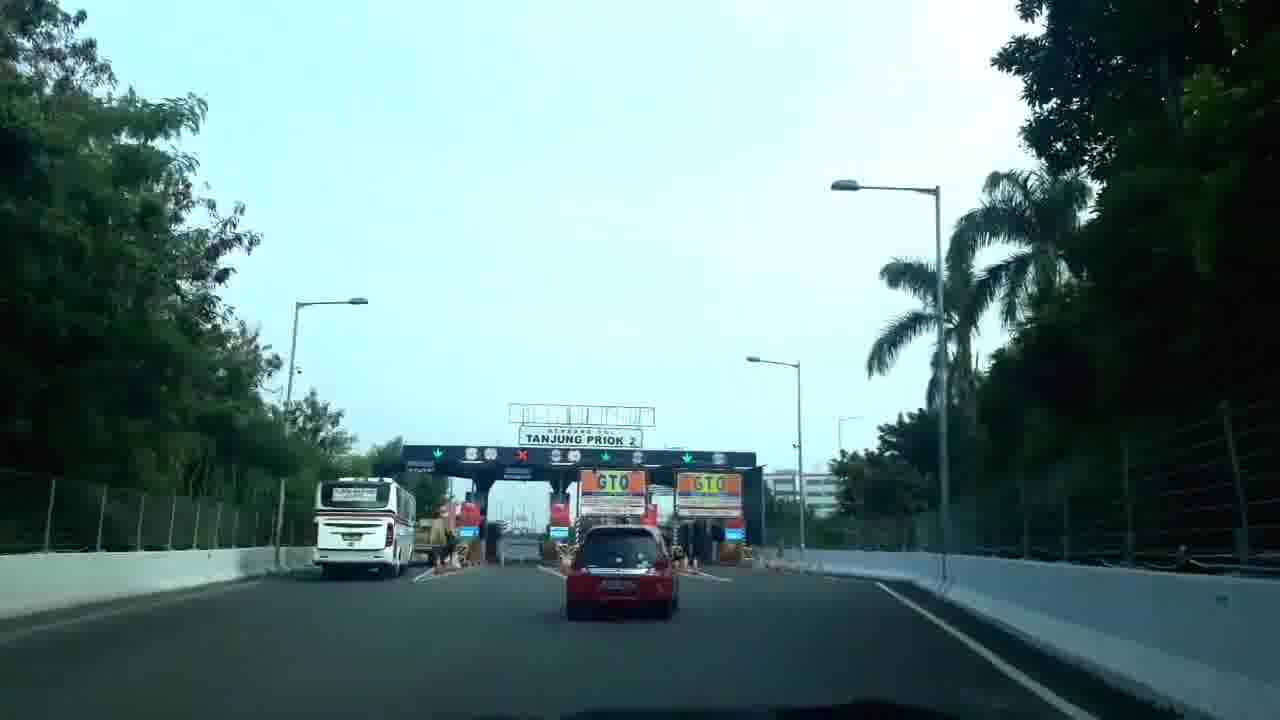plate_positive: (600, 578, 636, 590)
